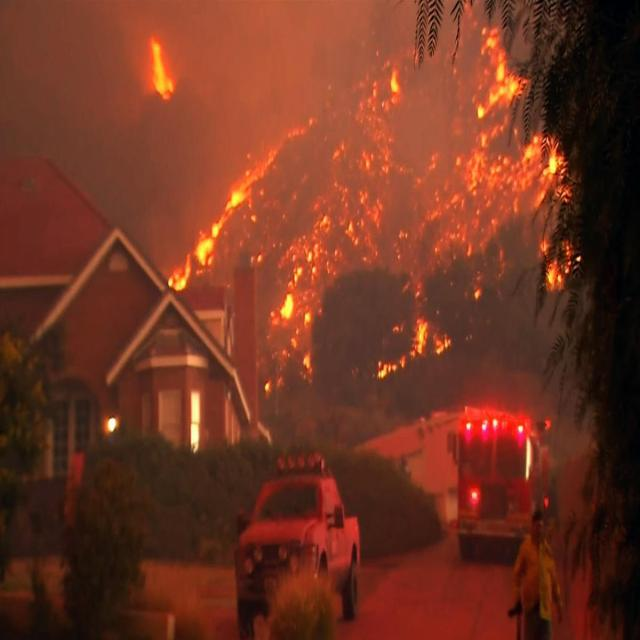Fire: (202, 5, 580, 437)
